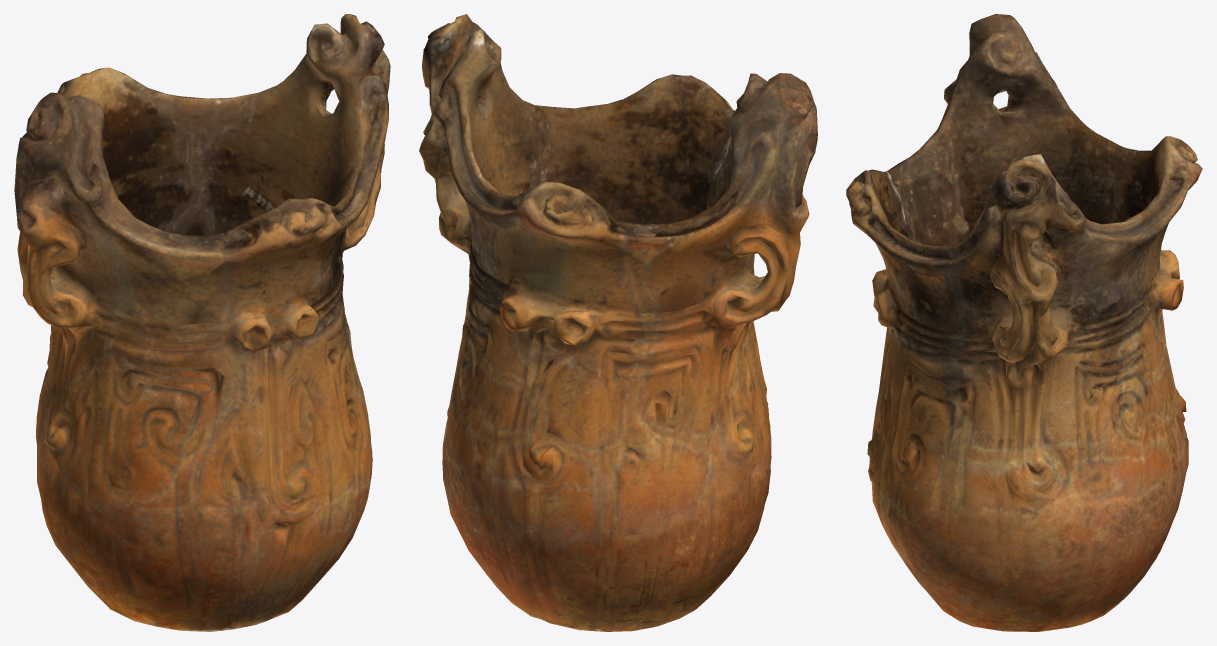
The picture shows the model from 3 angles, left to right: view 1: azimuth 30°, elevation 25°; view 2: azimuth 150°, elevation 25°; view 3: azimuth 270°, elevation 25°; orthographic projection. The views are drawn at different scales.
Visible parts, largest first — view 1: IN0081_low; view 2: IN0081_low; view 3: IN0081_low.
Part boxes in pixels (<box>): IN0081_low: <box>14,14,390,631</box>; IN0081_low: <box>419,14,817,631</box>; IN0081_low: <box>846,14,1202,631</box>.
Bounding box in the file's own units: 185 × 258 × 165.
Materials: 1 (1 with a texture image).
